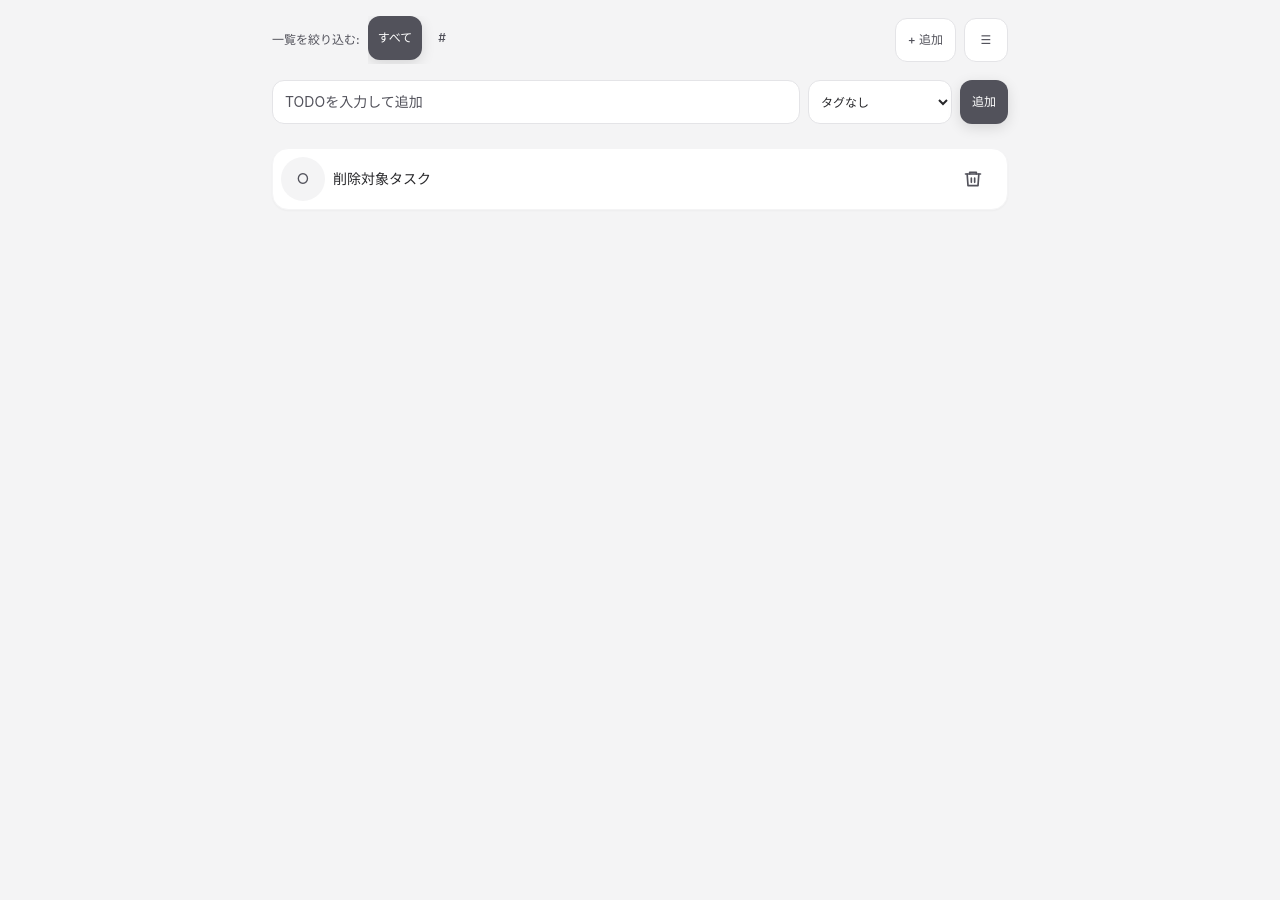
Test: TodoListPage › deletes the todo and offers undo after the confirm button is clicked
What coordinates should you click on to do the following:
click the button named "「削除対象タスク」を削除"
I would click on:
 (977, 179)
Its box is [955,157,999,201].
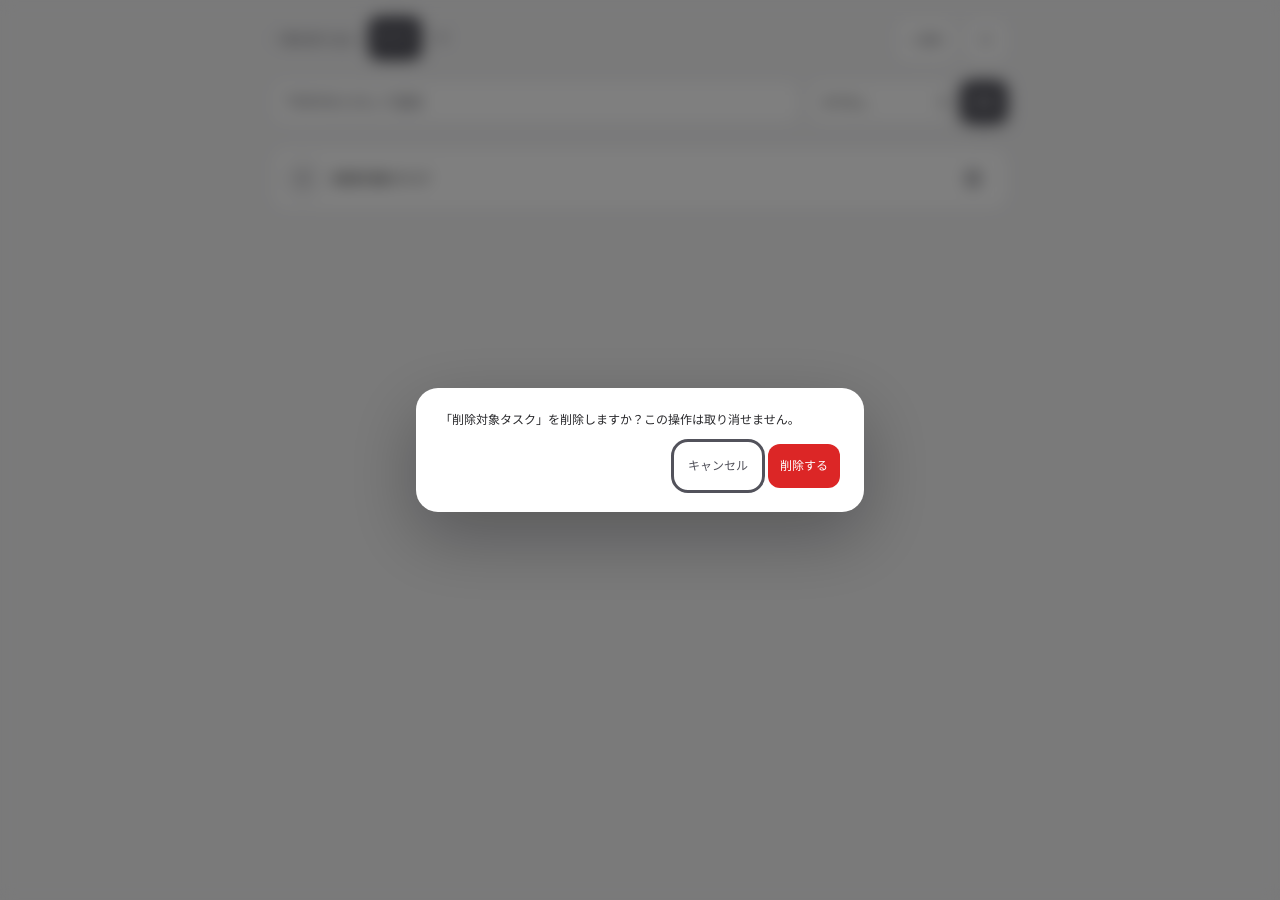
What coordinates should you click on to do the following:
click the button "削除する"
I would click on:
 (804, 466)
Its box is [768,444,840,488].
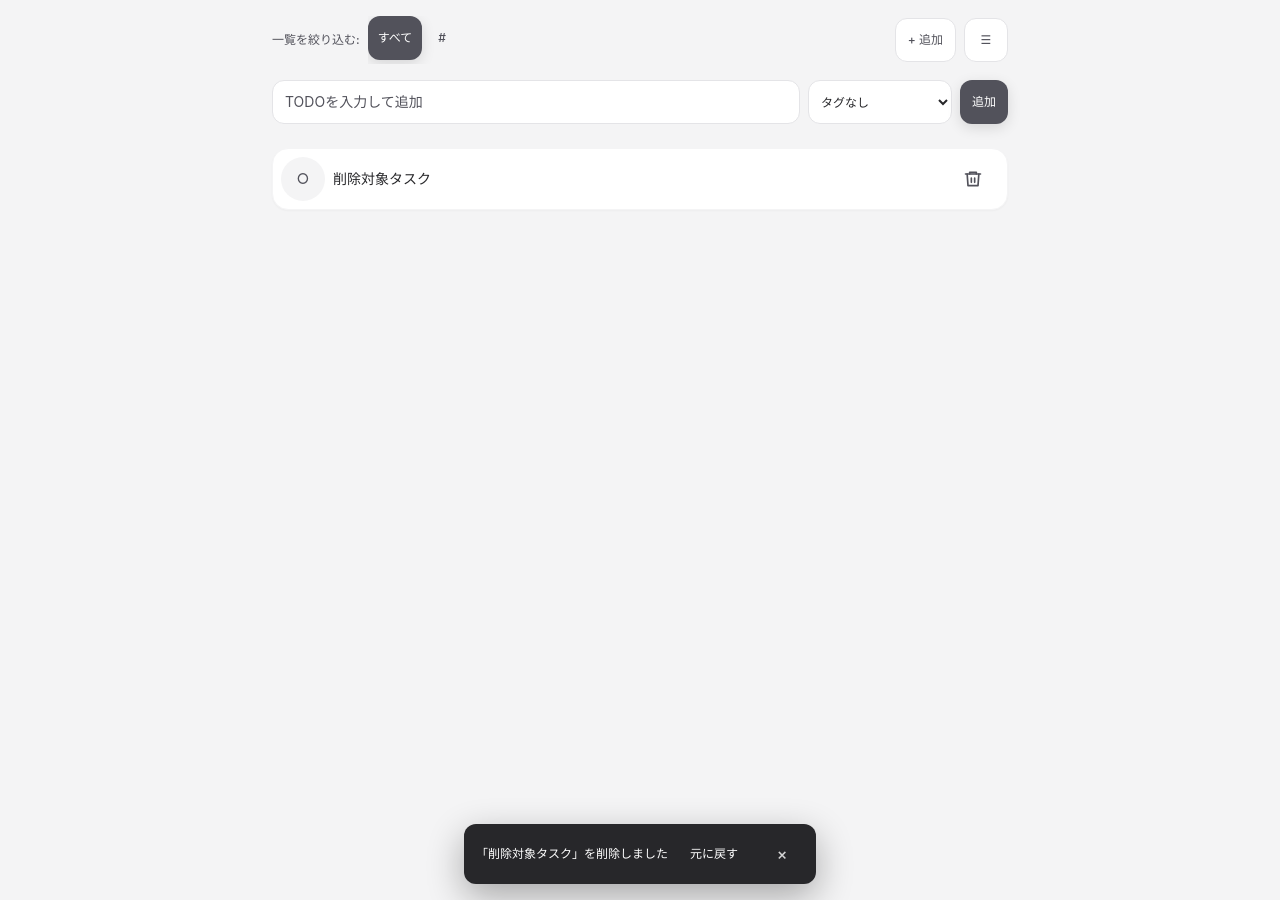
expect the dialog "TODOを削除" is gone: met
expect the message shows "「削除対象タスク」を削除しました": met, box [476,846,668,861]
What coordinates should you click on to do the following:
click the button "元に戻す"
I would click on:
 (714, 854)
Its box is [680,836,748,872].
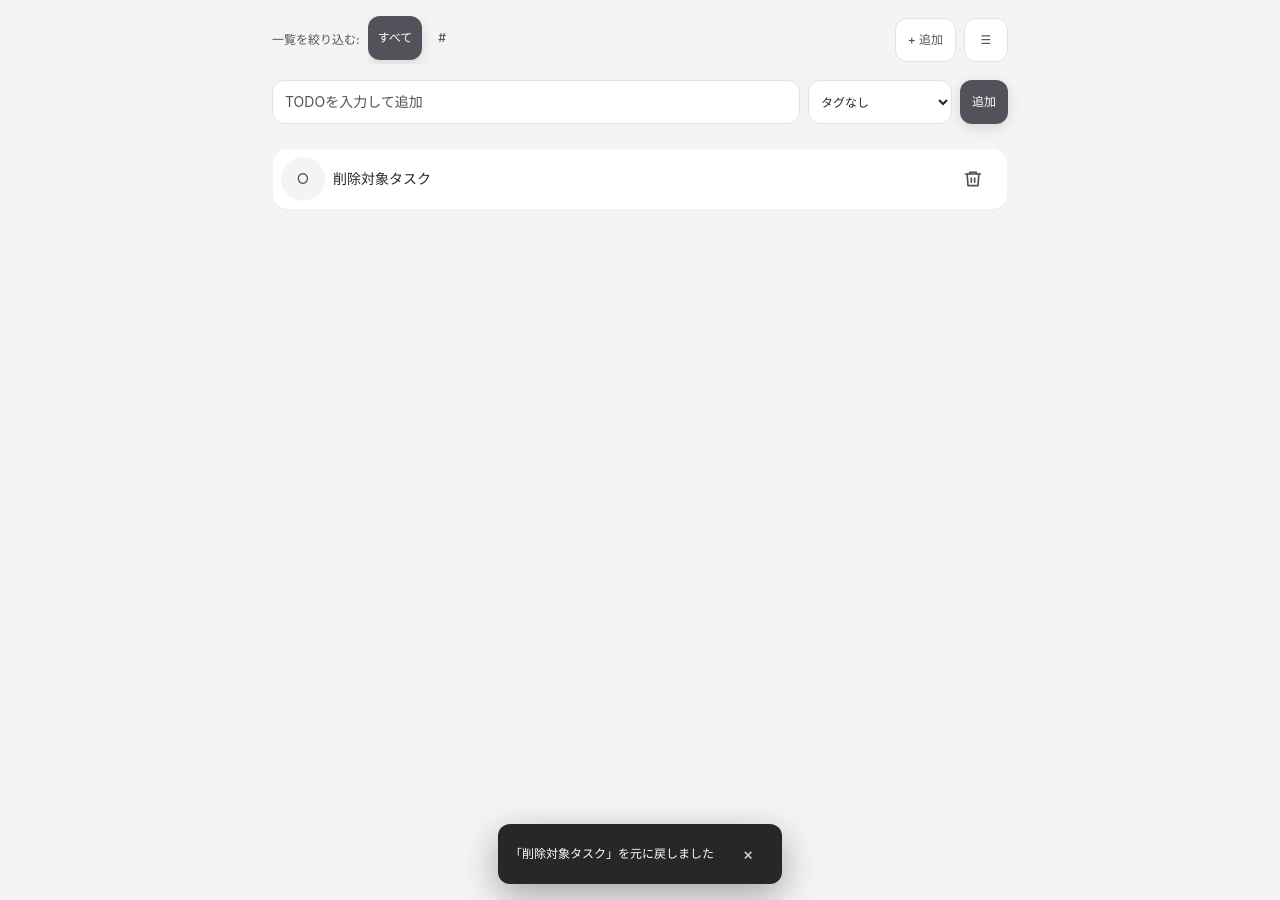
expect the text "「削除対象タスク」を元に戻しました" is shown: met, box [510,846,714,862]
